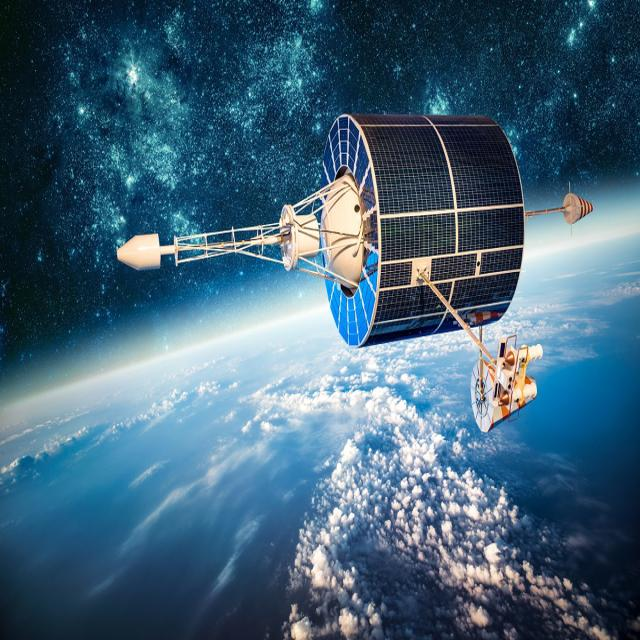medium_debris: (96, 90, 607, 453)
